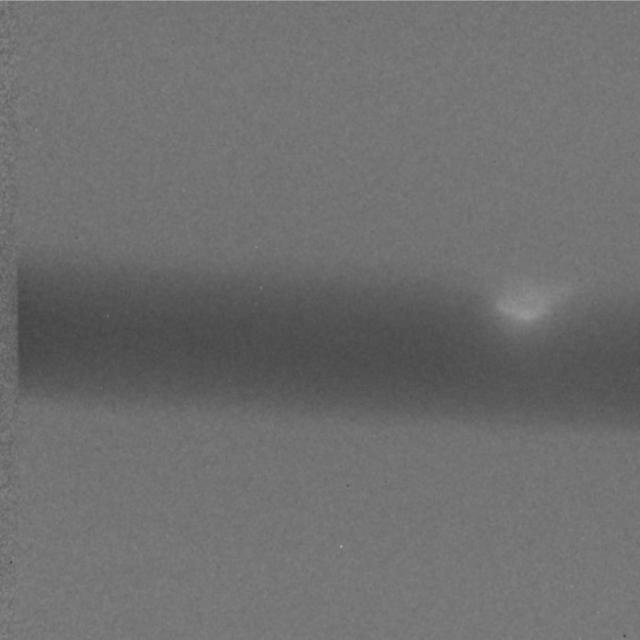bite-edge: (483, 290, 569, 334)
